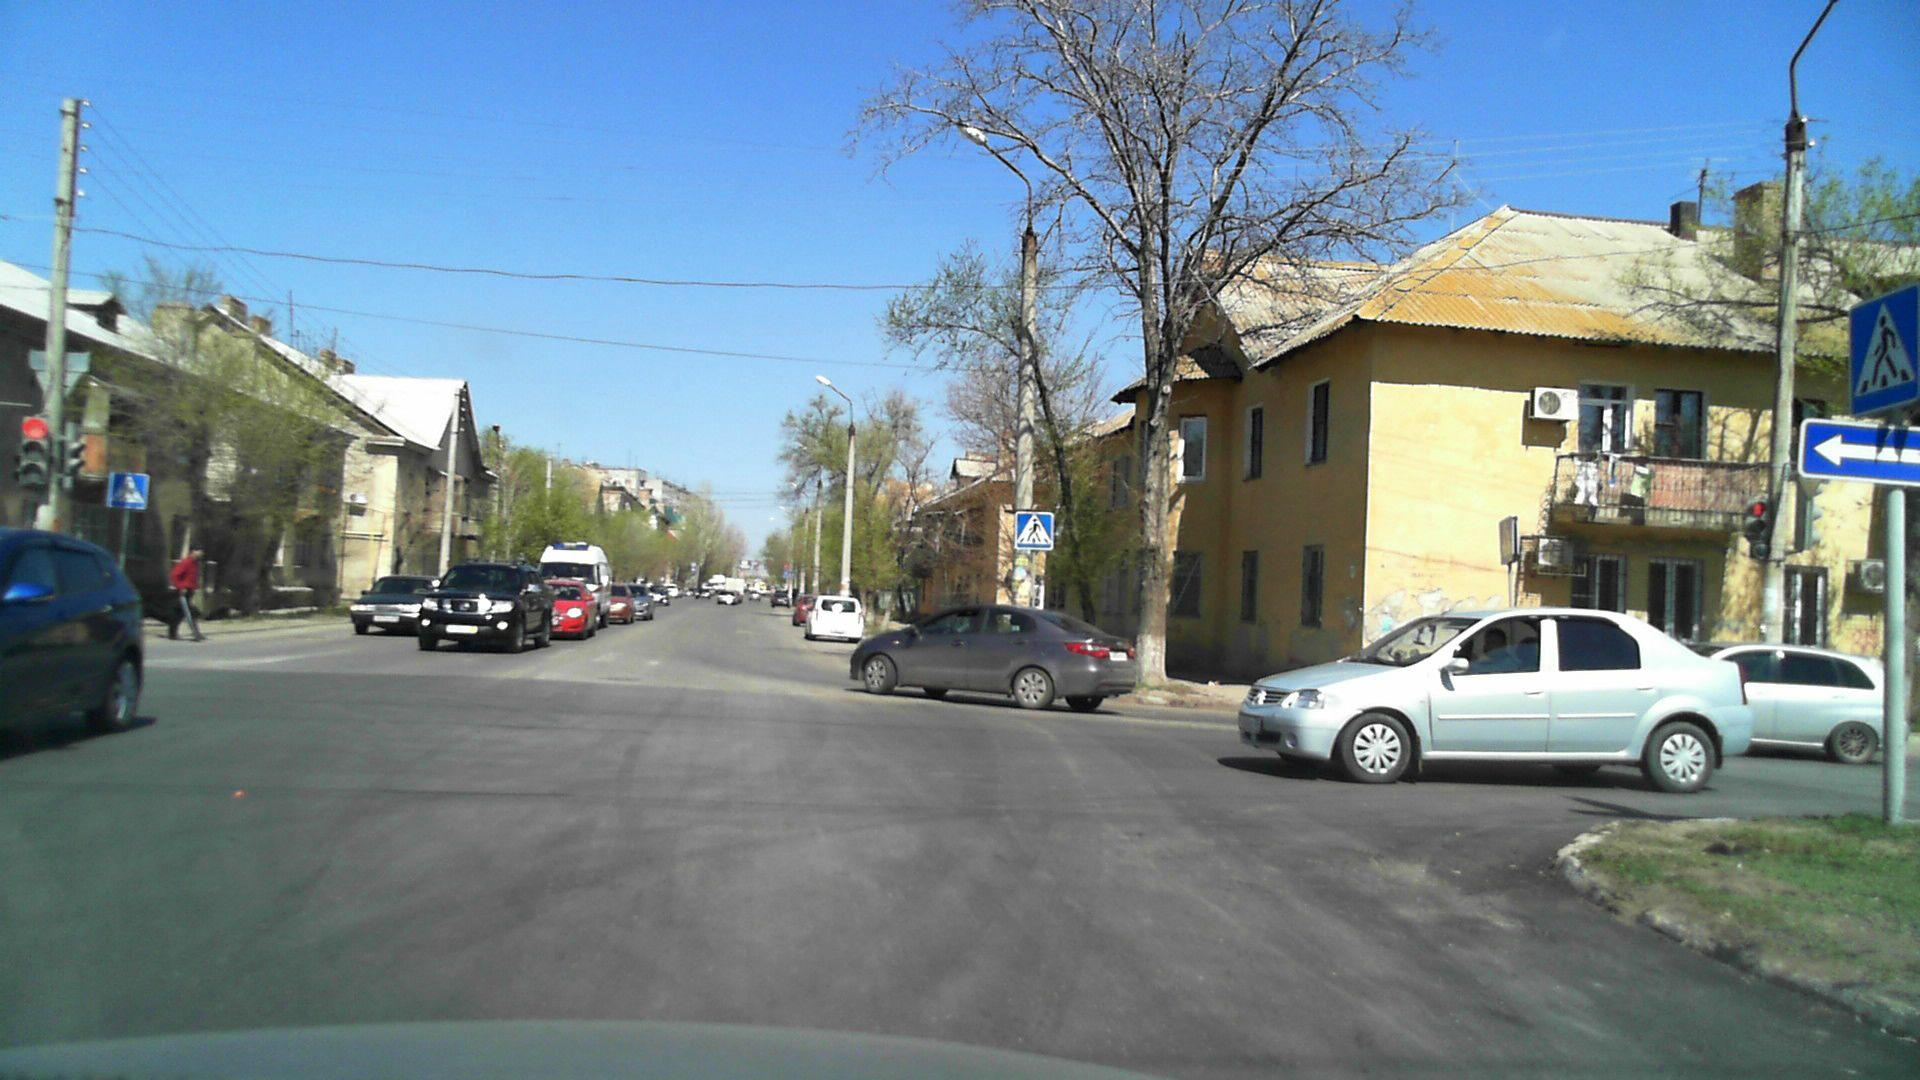5_19_1: (1844, 286, 1920, 415), (1011, 510, 1056, 553)
5_19_2: (111, 471, 149, 509)
5_7_2: (1799, 418, 1919, 487)
